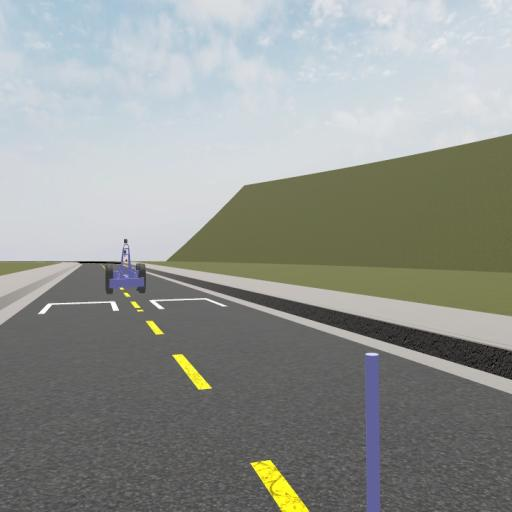ERP-42: (106, 240, 148, 293)
